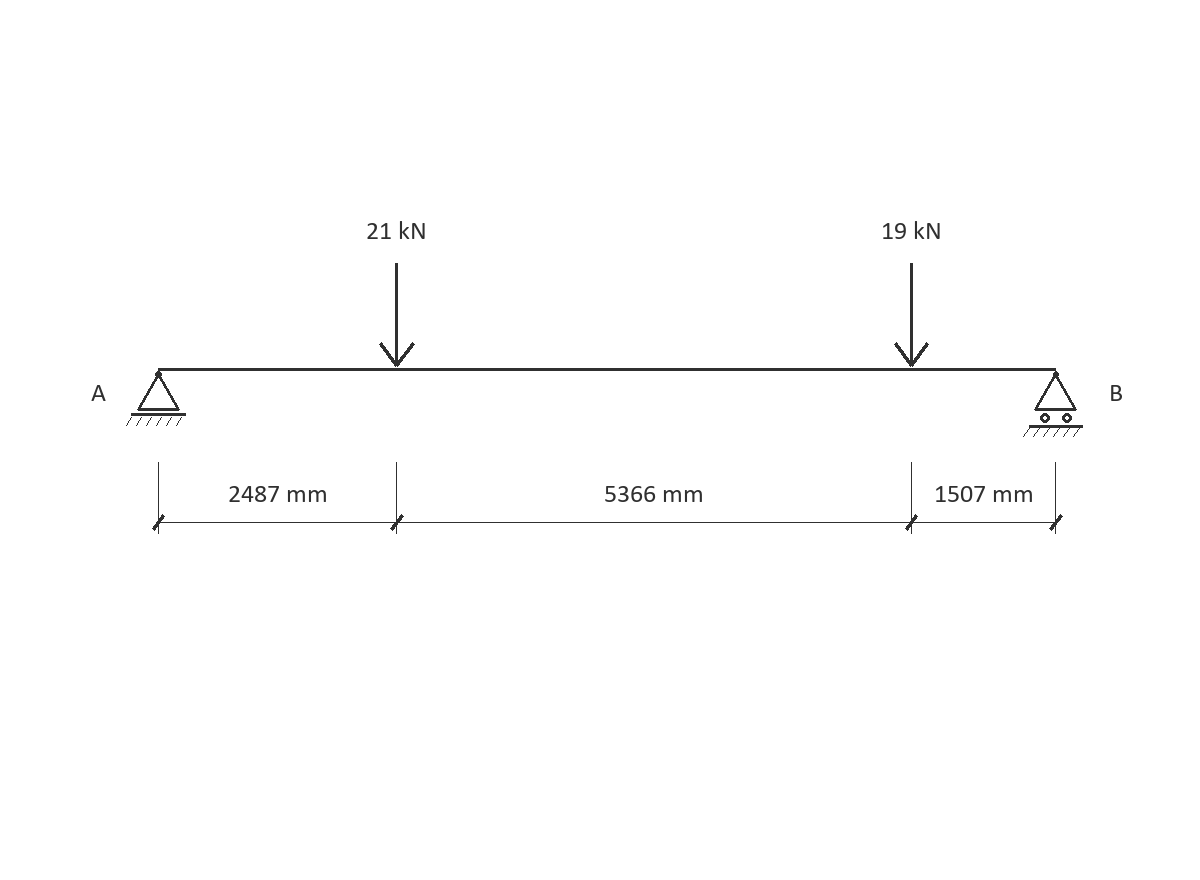pin_support: (126, 371, 186, 426)
point_load: (379, 263, 415, 367), (894, 263, 929, 367)
roller_support: (1023, 371, 1083, 437)
